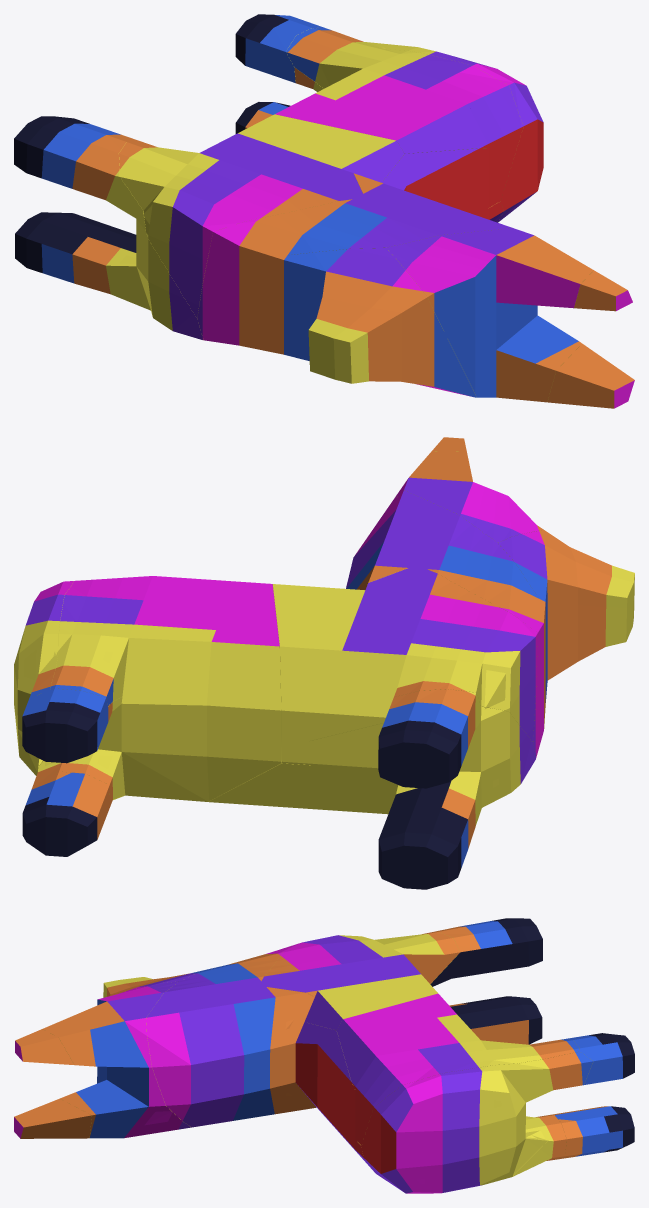
The model's file is pinata3.glb.
The picture shows the model from 3 angles, top to bottom: view 1: azimuth 30°, elevation 25°; view 2: azimuth 150°, elevation 25°; view 3: azimuth 270°, elevation 25°; orthographic projection. The views are drawn at different scales.
Visible parts, largest first — view 1: Destructible.004_cell.003, Destructible.004_cell.002, Destructible.003_cell.004, Destructible.003_cell.001, Destructible.003_cell.002, Destructible.002_cell.003, Destructible.001_cell.001, Destructible.004_cell, Destructible.001_cell, Destructible.001_cell.002, Destructible.002_cell.002, Destructible.004_cell.004 (+4 smaller); view 2: Destructible.001_cell.001, Destructible.003_cell.001, Destructible.003_cell.004, Destructible.004_cell.002, Destructible.001_cell, Destructible.004_cell, Destructible.002_cell.003, Destructible.002_cell.001, Destructible.004_cell.003, Destructible.002_cell.004, Destructible.002_cell.002, Destructible.001_cell.003 (+2 smaller); view 3: Destructible.002_cell.002, Destructible.004_cell, Destructible.004_cell.003, Destructible.003_cell.004, Destructible.003_cell.001, Destructible.002_cell.003, Destructible.001_cell.001, Destructible.001_cell.002, Destructible.003_cell, Destructible.001_cell, Destructible.002_cell.001, Destructible.004_cell.004 (+5 smaller).
Part boxes in pixels (x1,y1,x2,y2): Destructible.004_cell.003: (386,228,593,402); Destructible.004_cell.002: (284,247,476,397); Destructible.003_cell.004: (119,133,362,318); Destructible.003_cell.001: (14,116,203,340); Destructible.003_cell.002: (197,199,351,354); Destructible.002_cell.003: (286,28,523,207); Destructible.001_cell.001: (275,68,488,153); Destructible.004_cell: (288,183,512,255); Destructible.001_cell: (238,114,404,182); Destructible.001_cell.002: (381,148,488,219); Destructible.002_cell.002: (317,26,543,222); Destructible.004_cell.004: (547,343,634,408); Destructible.001_cell.001: (121,576,281,801); Destructible.003_cell.001: (309,689,535,889); Destructible.003_cell.004: (309,568,537,742); Destructible.004_cell.002: (498,530,634,702); Destructible.001_cell: (272,584,365,764); Destructible.004_cell: (346,490,538,598); Destructible.002_cell.003: (50,576,152,705); Destructible.002_cell.001: (22,771,109,856); Destructible.004_cell.003: (390,451,543,542); Destructible.002_cell.004: (22,688,108,763); Destructible.002_cell.002: (14,581,73,775); Destructible.001_cell.003: (208,762,341,810); Destructible.002_cell.002: (361,1051,593,1193); Destructible.004_cell: (146,963,275,1127); Destructible.004_cell.003: (42,981,191,1138); Destructible.003_cell.004: (261,932,459,996); Destructible.003_cell.001: (422,918,542,1044); Destructible.002_cell.003: (355,1039,579,1145); Destructible.001_cell.001: (336,993,480,1089); Destructible.001_cell.002: (295,1022,371,1168); Destructible.003_cell: (267,987,316,1114); Destructible.001_cell: (304,974,437,1030); Destructible.002_cell.001: (548,1106,634,1159); Destructible.004_cell.004: (14,1098,91,1138).
Bounding box in the file's own units: 5.95 × 1.8 × 8.56.
